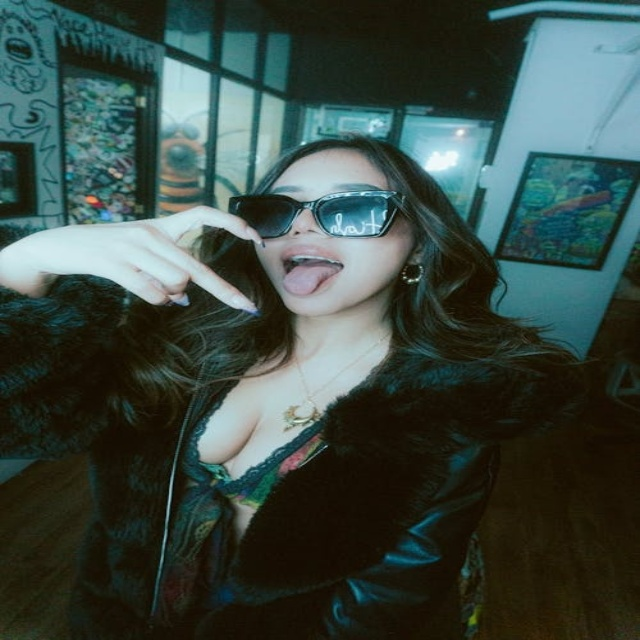Gafas: (218, 184, 412, 242)
Sin_guantes: (24, 200, 266, 313)
Sin_mascara: (271, 244, 355, 308)
